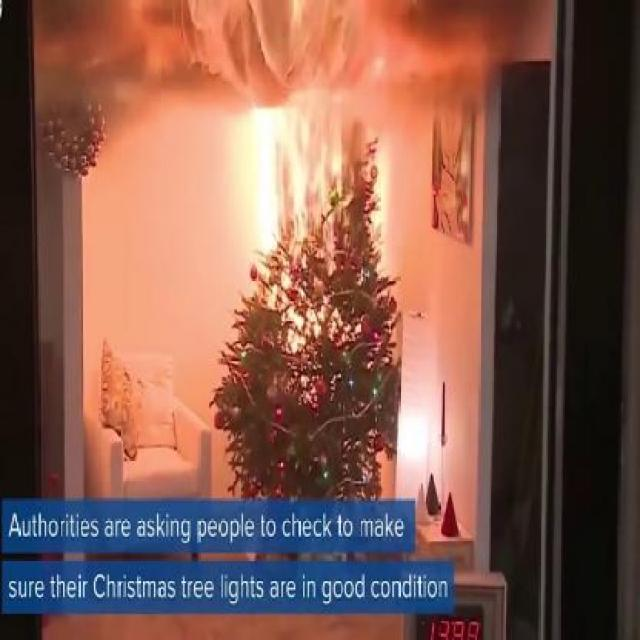fire: (252, 102, 357, 295)
smoke: (32, 1, 280, 104), (282, 0, 504, 94)
